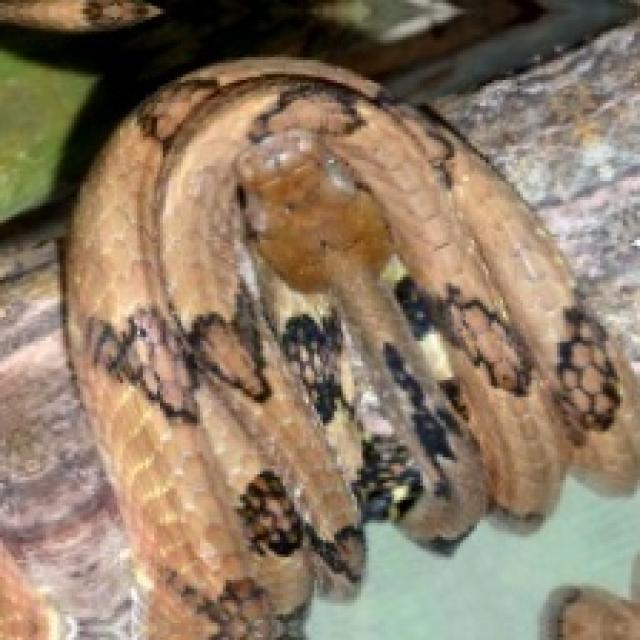dog-toothed cat snake: (63, 57, 637, 637)
